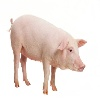heo: (8, 14, 87, 94)
